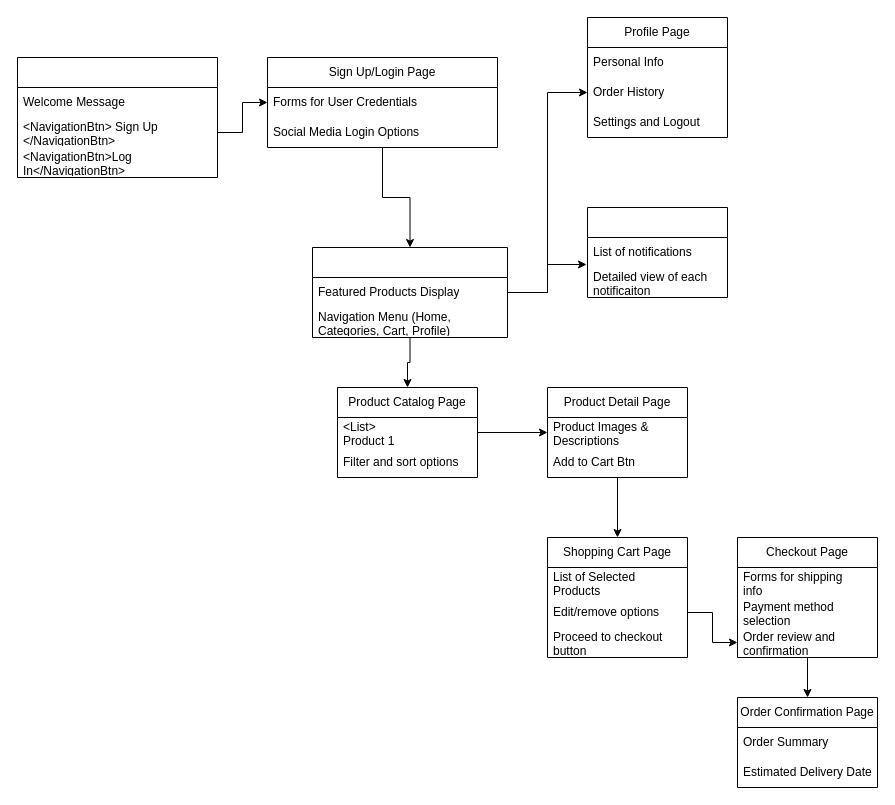
This 895x805 diagram has some shape labels left out. The shapes that lost their labels are listed below. From the top down, each one's box as (x1, y1, x2, y2) in pixels, then its label:
(16, 56, 218, 178): Landing Page
(586, 206, 728, 298): Notifications Page
(312, 246, 508, 338): Home Page
